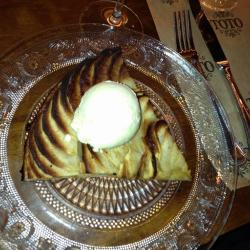apple_pie: (19, 45, 204, 191)
icecream: (70, 76, 144, 153)
